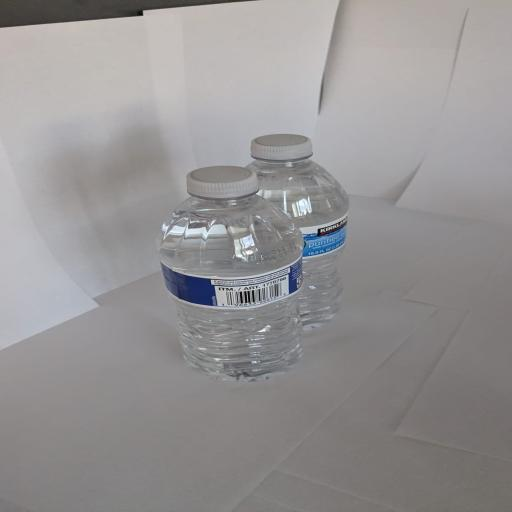waterbottle: (158, 167, 302, 380), (248, 135, 349, 328)
